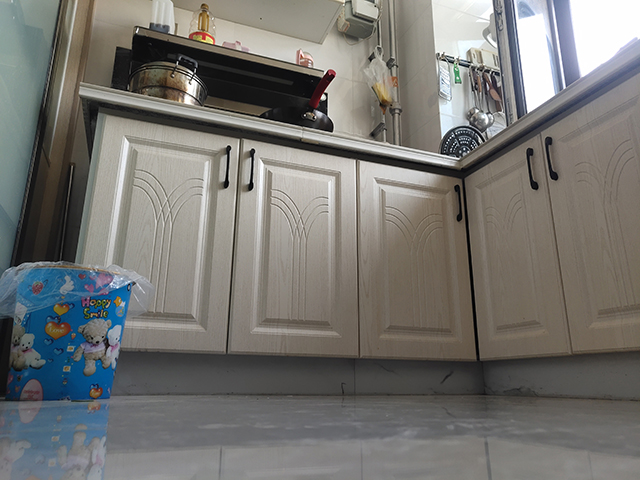cabinet: (76, 81, 481, 393), (463, 42, 640, 399)
trashcan: (1, 263, 137, 403)
